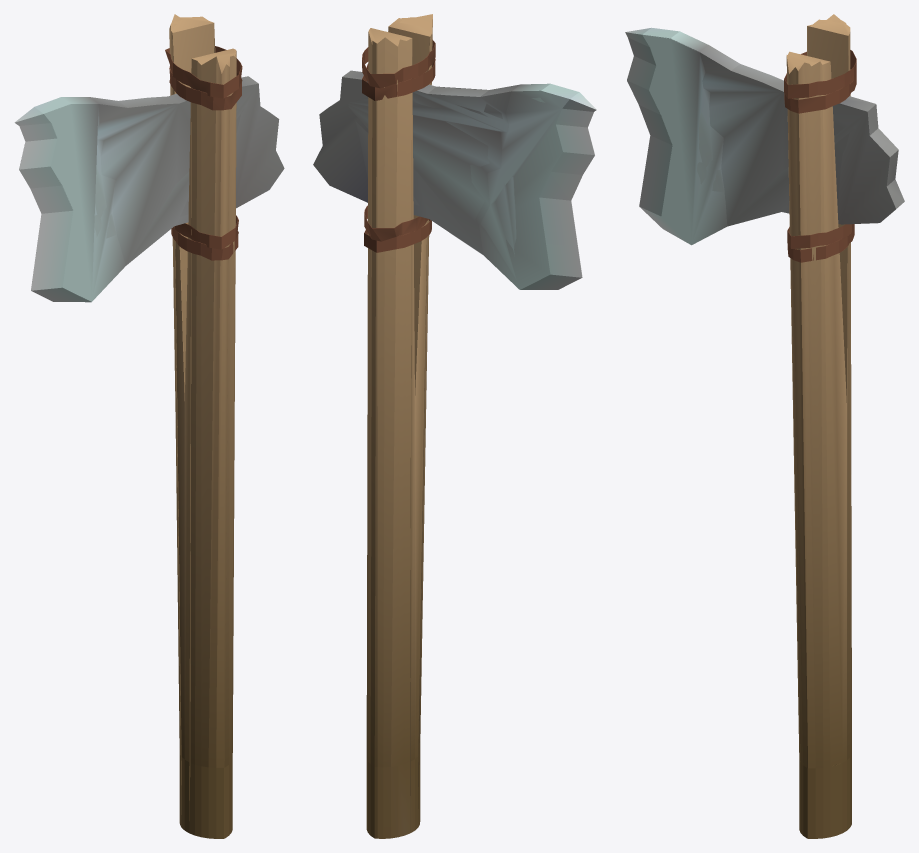
The model's file is senkuaxe.fbx.
The picture shows the model from 3 angles, left to right: view 1: azimuth 30°, elevation 25°; view 2: azimuth 150°, elevation 25°; view 3: azimuth 330°, elevation 25°; orthographic projection.
Visible parts, largest first — view 1: Cylinder; view 2: Cylinder; view 3: Cylinder.
Boxes of the visible parts, x1=… form: Cylinder: x1=14, y1=14, x2=284, y2=838; Cylinder: x1=313, y1=14, x2=596, y2=838; Cylinder: x1=625, y1=14, x2=904, y2=838.
Size of the model in its own units: 8 by 22.51 by 2.67.
